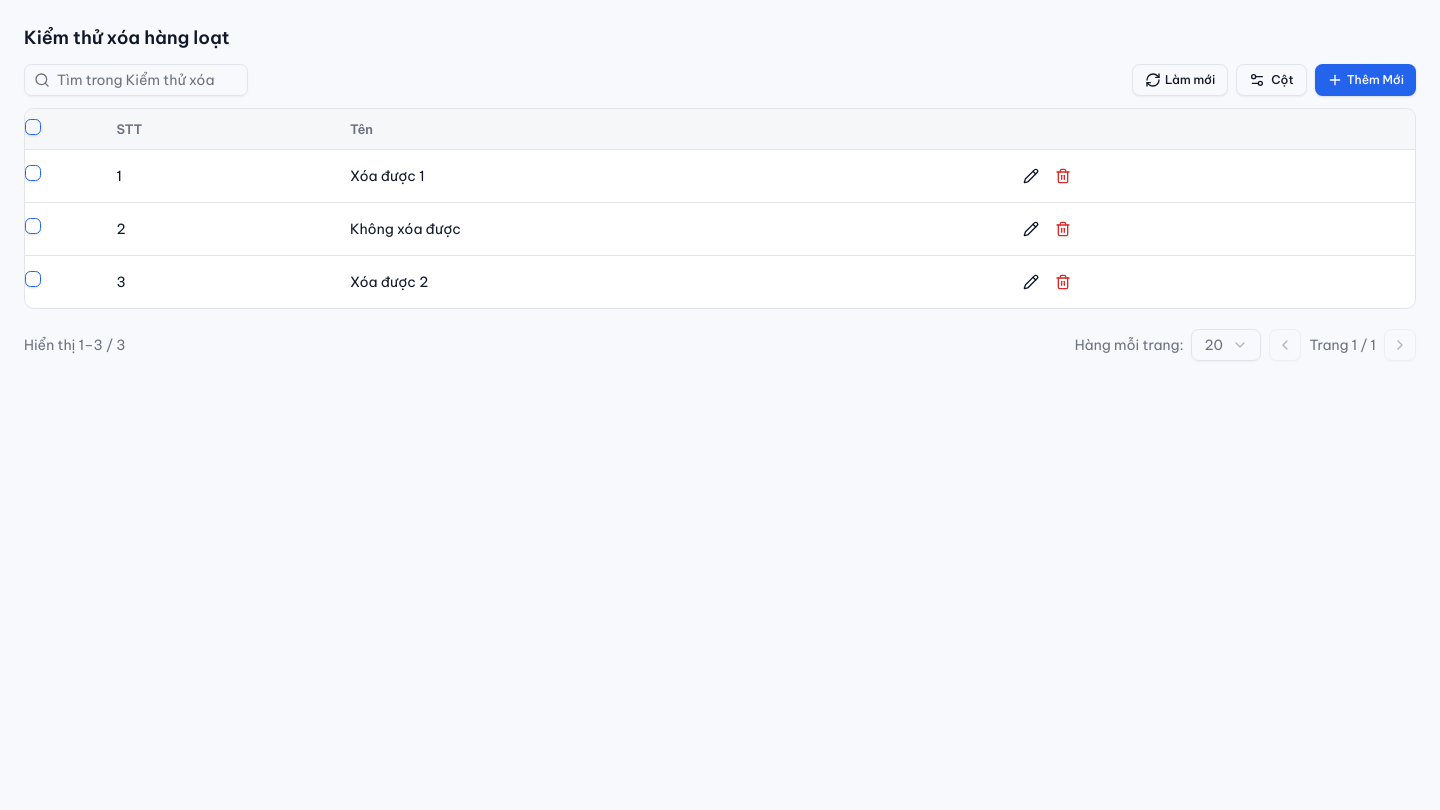
Test: CrudTablePage bulk delete › reports exact counts and preserves failed row selections
Click the checkbox named "Chọn dòng" in the row of "Xóa được 1" at (33, 173), box [25,165,41,181]
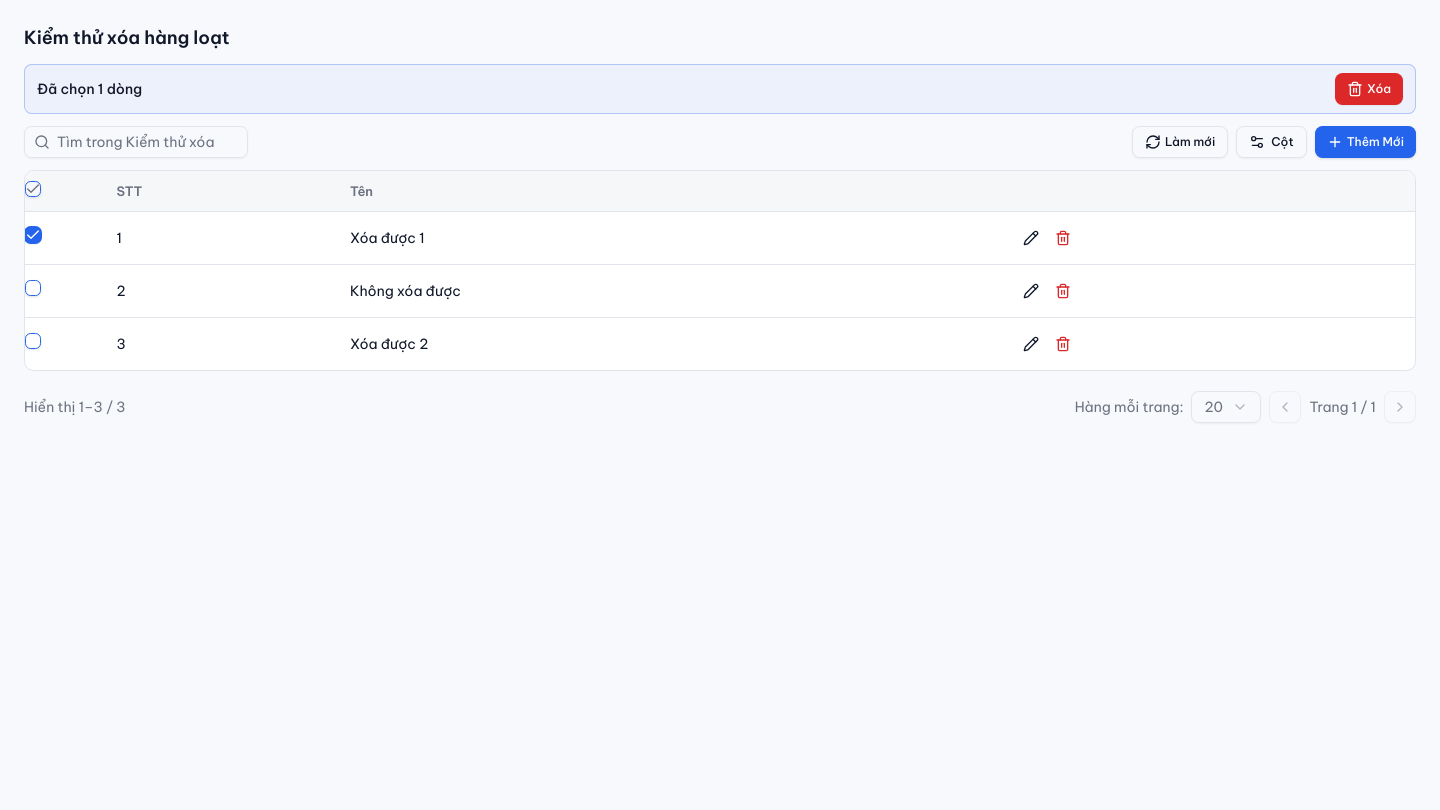
Click the checkbox named "Chọn dòng" in the row of "Không xóa được" at (33, 288), box [25,280,41,296]
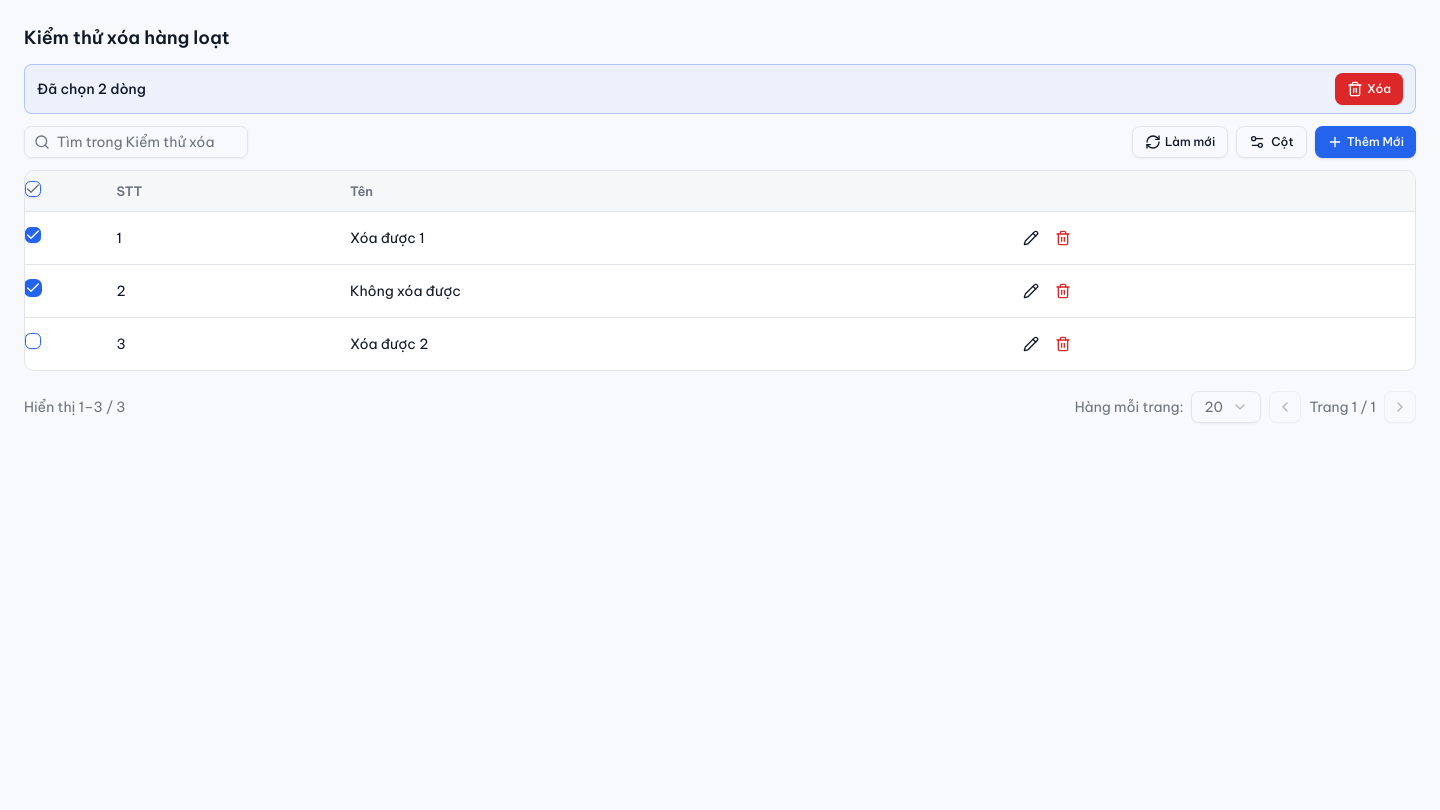
Click the checkbox named "Chọn dòng" in the row of "Xóa được 2" at (33, 341), box [25,333,41,349]
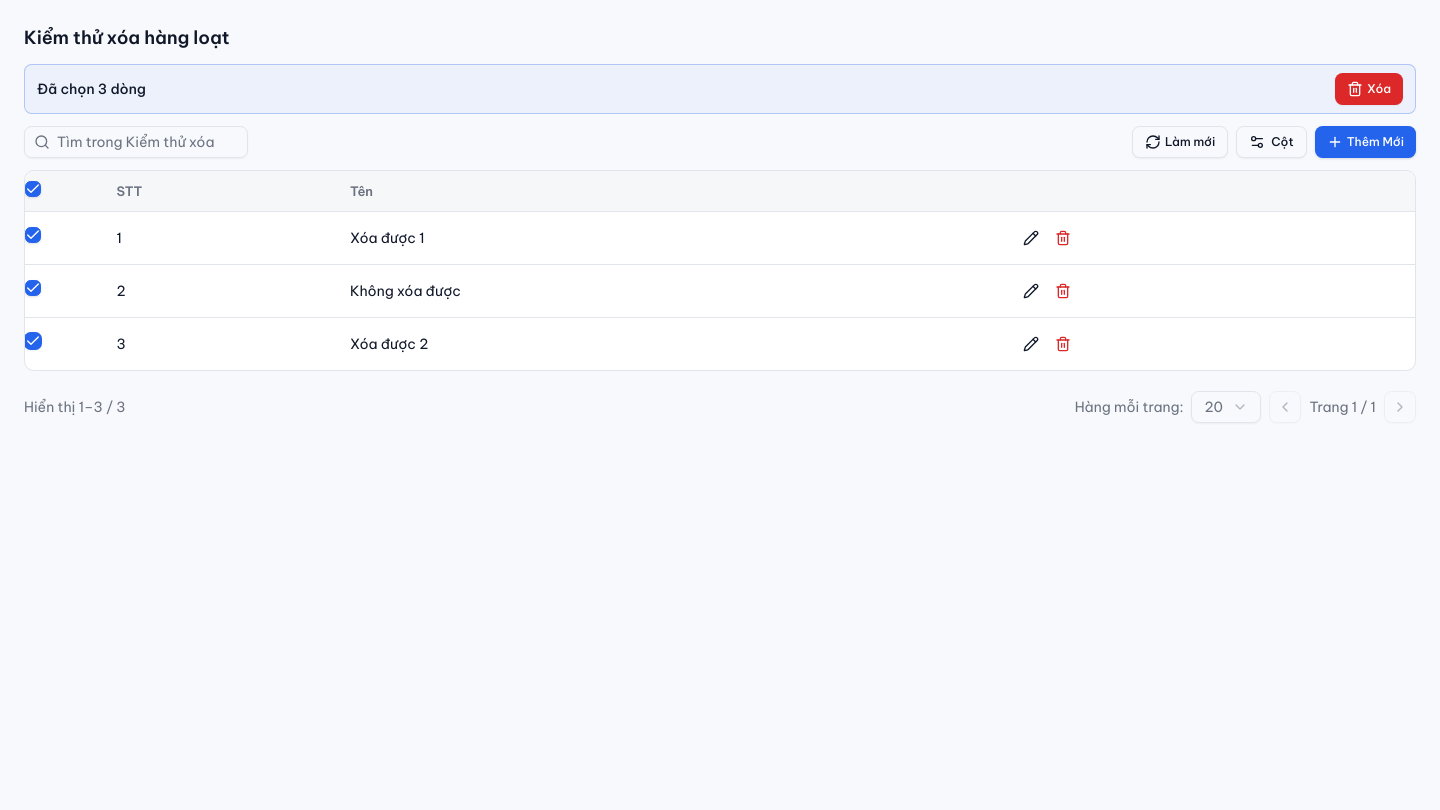
Click the button "Xóa" at (1369, 89), box [1335,73,1403,105]
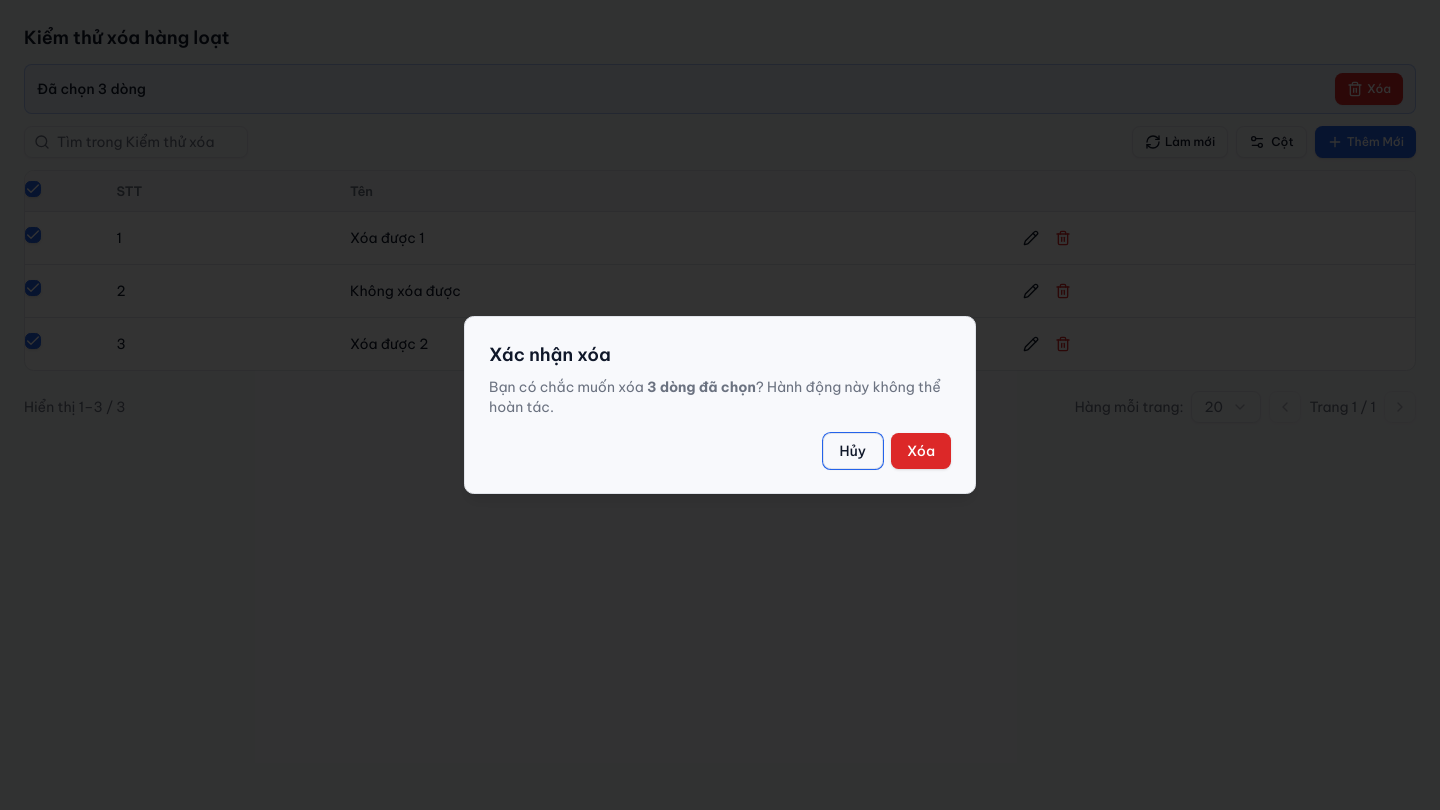
Click the button "Xóa" at (921, 451), box [891,433,951,469]
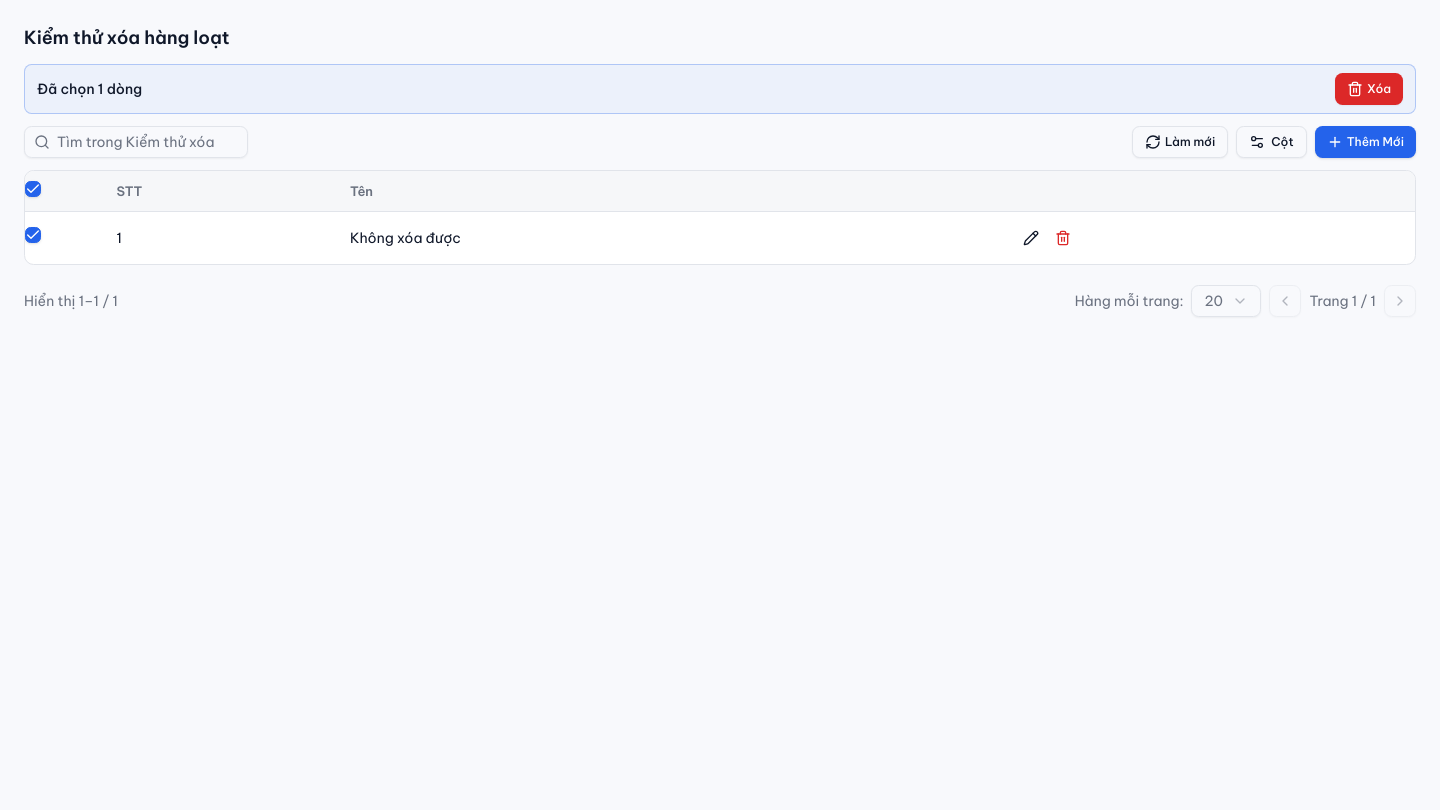
Result: the text "Xóa được 1" is gone
Result: the text "Xóa được 2" is gone
Result: the text "Đã chọn 1 dòng" is shown at [37,79,142,99]
